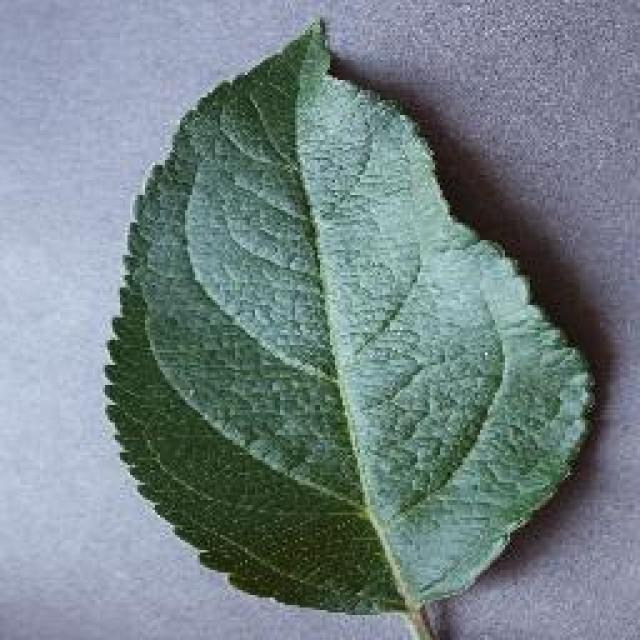apple healthy: (100, 15, 598, 637)
